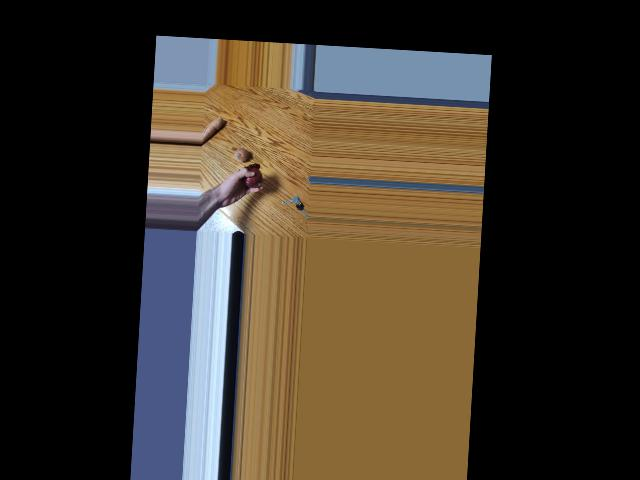onion: (230, 146, 249, 168)
